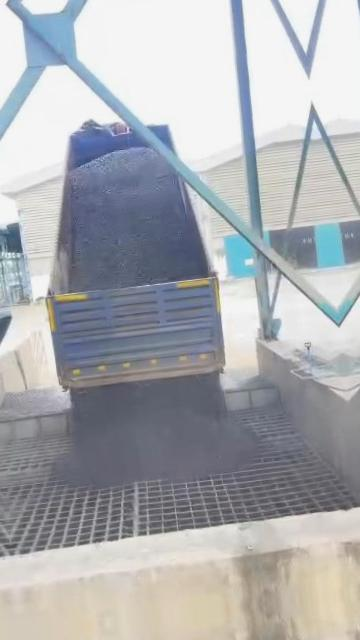gravel: (55, 375, 255, 486), (71, 148, 206, 289), (0, 387, 71, 421)
